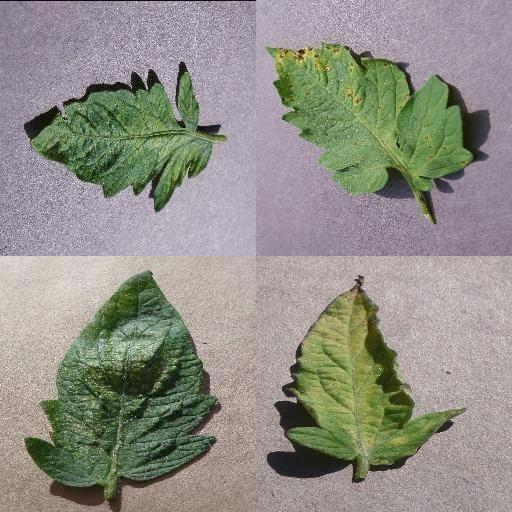Leaf Mold: (284, 273, 466, 467)
Mosaic Virus: (26, 67, 213, 215)
Septoria: (266, 43, 470, 191)
Spider Mites: (24, 271, 218, 489)
